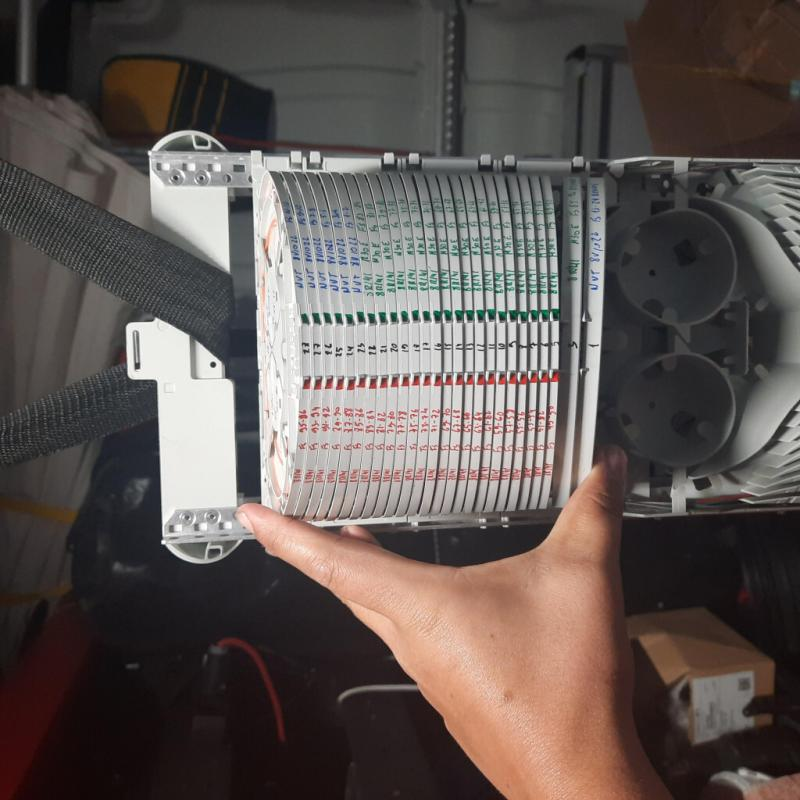NT-Muffen: (144, 130, 800, 514)
